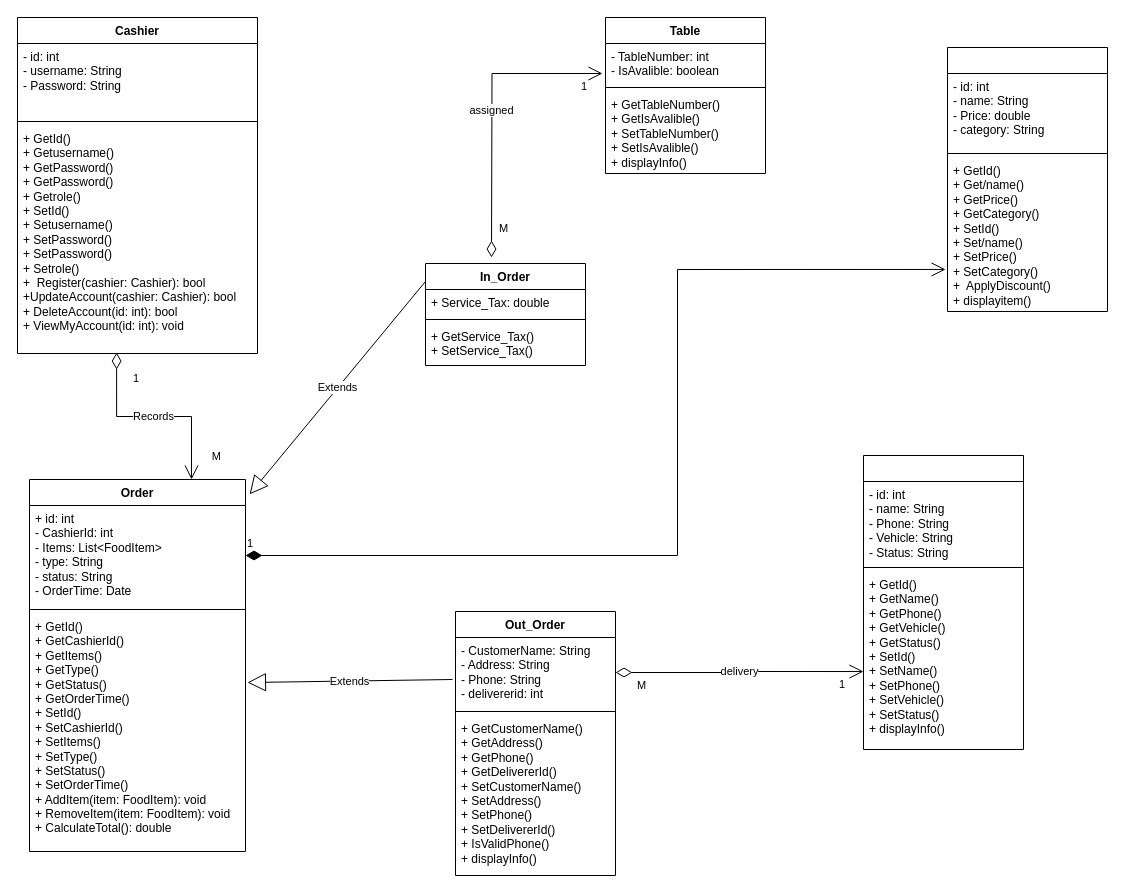
The diagram is 1125 pixels wide and 896 high, and some of its shapes have lost their labels. Here are the shapes that lost their labels. From the top down, the box of each, then its label:
(946, 46, 1108, 312): FoodItem
(862, 454, 1024, 750): Delivery Man
